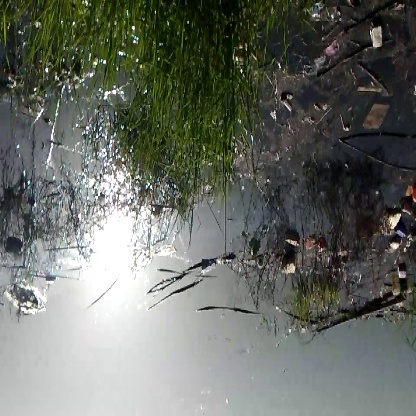branch: (319, 296, 416, 333)
